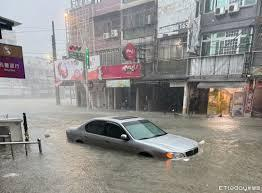water: (0, 96, 261, 192)
